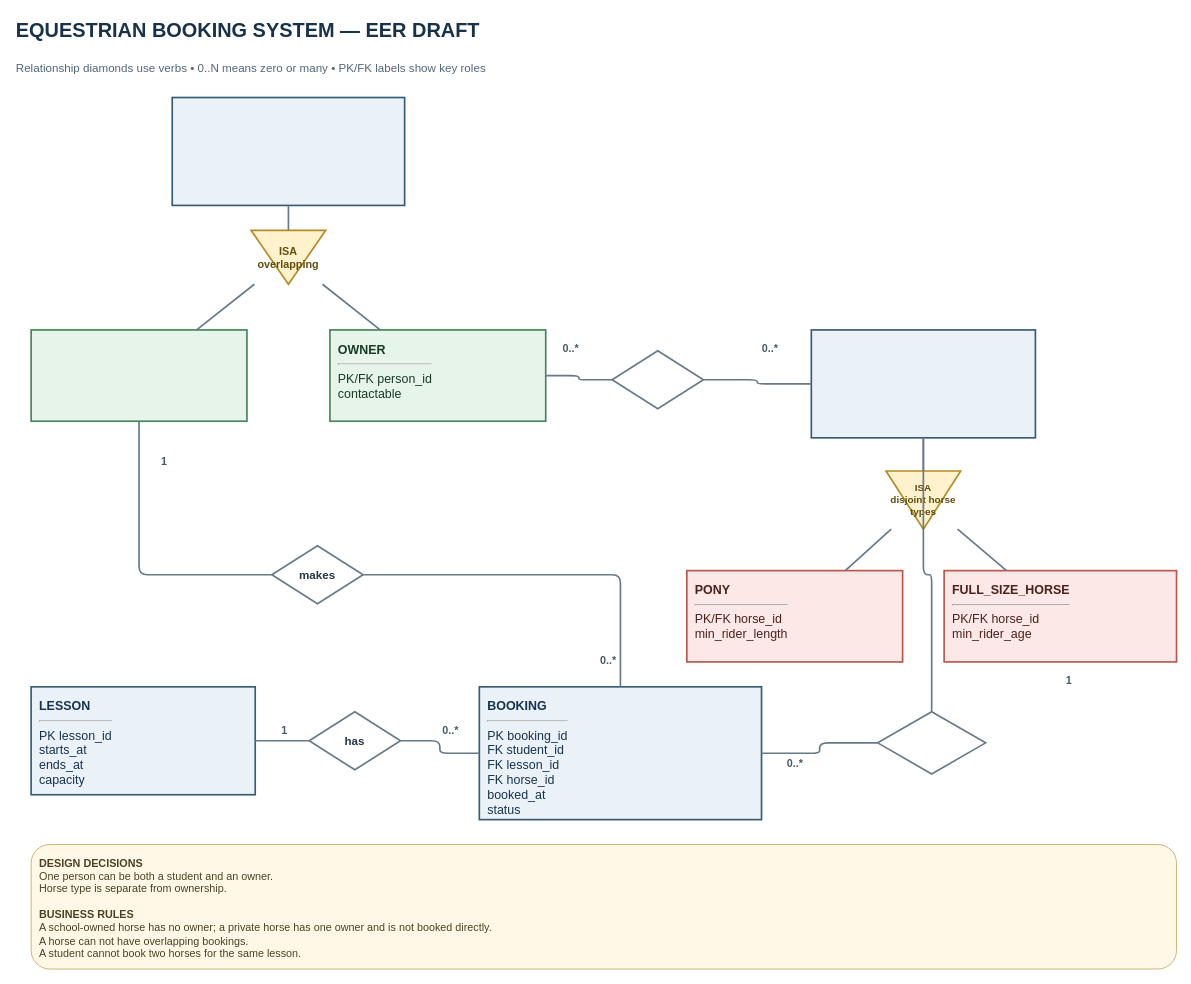
Some shapes in this 1191 by 984 pixel diagram are drawn without their labels. Each missing label, with the centre of its shape:
"HORSE PK horse_id name age bookable" belongs at point 923,383.
"is assigned to" belongs at point 931,742.
"owns" belongs at point 657,379.
"PERSON PK person_id name email phone" belongs at point 288,151.
"STUDENT PK/FK person_id rider_height_cm" belongs at point 138,375.
